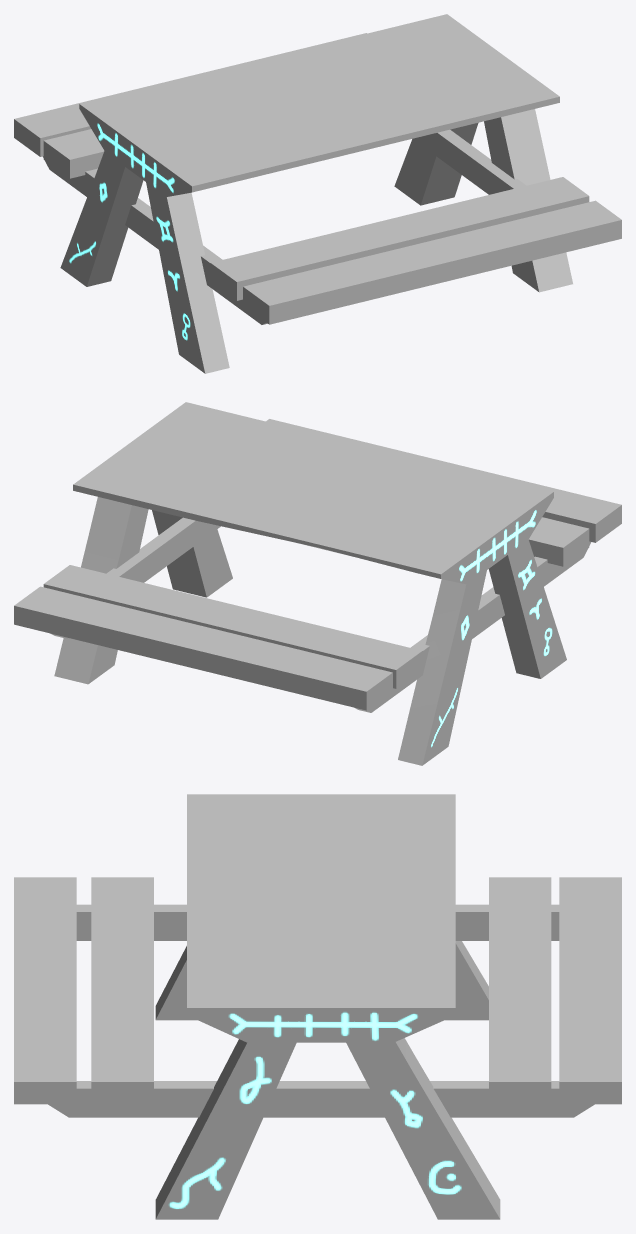
3 views of the same model, one above another, from view 1: azimuth 30°, elevation 25°; view 2: azimuth 150°, elevation 25°; view 3: azimuth 270°, elevation 25° (orthographic). The views are drawn at different scales.
Parts seen in each view (by area): view 1: Main_Bench_Low, Seat_Right2_Low, Seat_Right_Low, Pannel_2_Low, Seat_Left_Low, Pannel_1_Low, Seat_Left1_Low; view 2: Main_Bench_Low, Seat_Left_Low, Seat_Left1_Low, Seat_Right2_Low, Pannel_2_Low, Pannel_1_Low, Seat_Right_Low; view 3: Main_Bench_Low, Seat_Left_Low, Seat_Right_Low, Seat_Right2_Low, Seat_Left1_Low, Pannel_2_Low, Pannel_1_Low.
Part boxes in pixels (left/top/right/bottom): Main_Bench_Low: left=60, top=14, right=572, bottom=373; Seat_Right2_Low: left=243, top=200, right=621, bottom=324; Seat_Right_Low: left=210, top=177, right=589, bottom=300; Pannel_2_Low: left=412, top=129, right=526, bottom=194; Seat_Left_Low: left=14, top=33, right=366, bottom=156; Pannel_1_Low: left=43, top=156, right=267, bottom=324; Seat_Left1_Low: left=43, top=129, right=104, bottom=178; Main_Bench_Low: left=54, top=402, right=566, bottom=765; Seat_Left_Low: left=14, top=586, right=392, bottom=710; Seat_Left1_Low: left=43, top=565, right=422, bottom=688; Seat_Right2_Low: left=266, top=419, right=621, bottom=542; Pannel_2_Low: left=50, top=517, right=220, bottom=638; Pannel_1_Low: left=354, top=541, right=591, bottom=712; Seat_Right_Low: left=528, top=517, right=589, bottom=566; Main_Bench_Low: left=155, top=794, right=500, bottom=1219; Seat_Left_Low: left=559, top=877, right=621, bottom=1104; Seat_Right_Low: left=91, top=877, right=153, bottom=1104; Seat_Right2_Low: left=14, top=877, right=76, bottom=1104; Seat_Left1_Low: left=489, top=877, right=551, bottom=1104; Pannel_2_Low: left=48, top=1081, right=594, bottom=1117; Pannel_1_Low: left=76, top=904, right=559, bottom=940.
Bounding box in the file's own units: 4.34 × 2.01 × 5.22.
